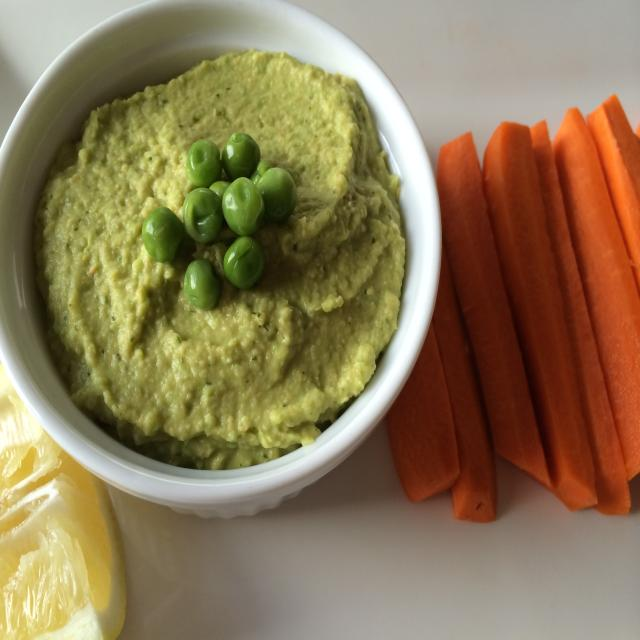pea: (42, 48, 407, 463), (141, 128, 290, 314)
